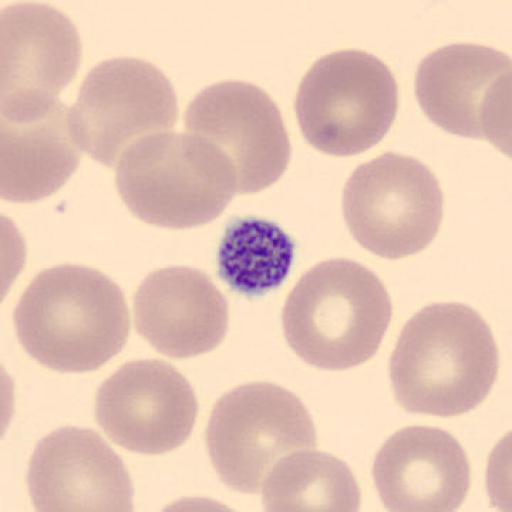Platelet: (214, 214, 298, 298)
RBC: (10, 260, 132, 376), (387, 299, 500, 420), (279, 255, 394, 373), (180, 77, 292, 197), (204, 380, 318, 496), (67, 53, 180, 170), (113, 130, 240, 231), (292, 46, 400, 160), (339, 148, 446, 262), (92, 358, 200, 459), (0, 0, 84, 124), (23, 423, 136, 512), (412, 40, 512, 140), (131, 262, 230, 361), (2, 89, 83, 204), (370, 422, 472, 512), (259, 447, 363, 512), (478, 70, 512, 161), (0, 212, 27, 310), (485, 427, 512, 512), (1, 87, 60, 125), (148, 492, 256, 512), (0, 348, 18, 444), (0, 360, 18, 438)
